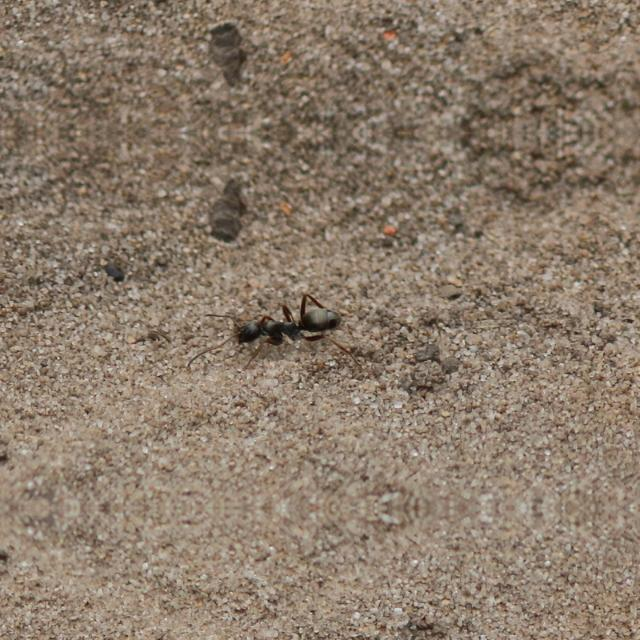Formica: (213, 288, 341, 362)
